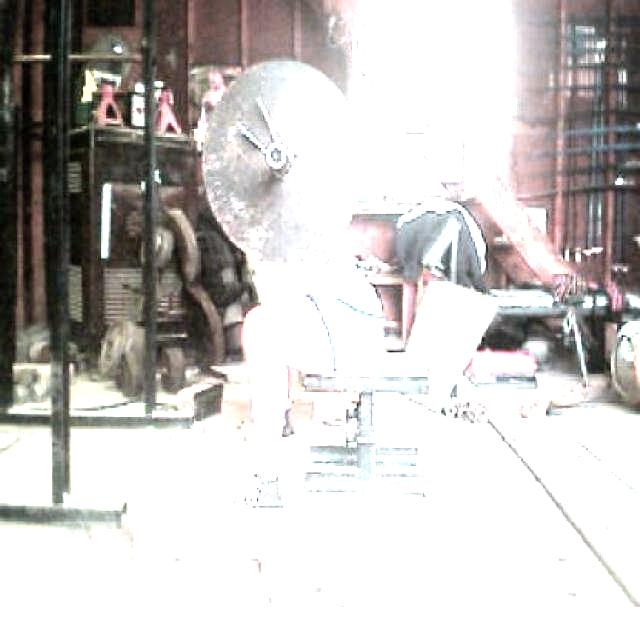barbell: (198, 53, 365, 272)
